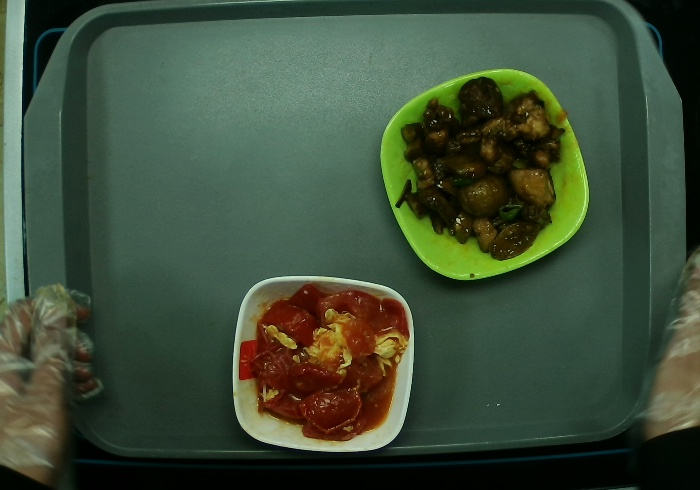SHKJ-Bai_Se_Xiao_Fang_Die: (232, 273, 416, 454)
SHKJ-Lv_Se_Cai_Die: (380, 68, 591, 281)
